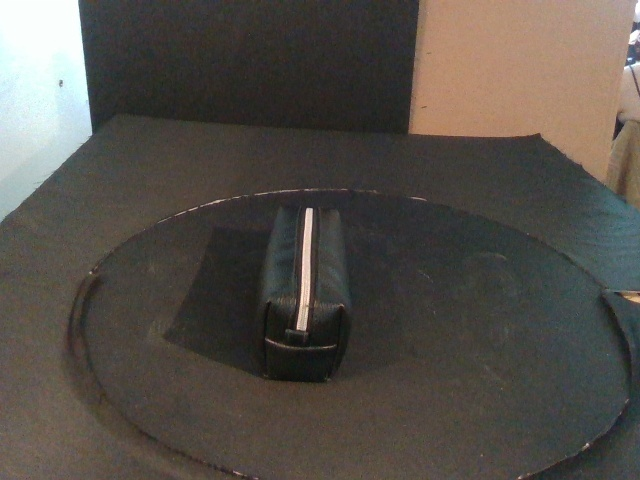pencil_case: (253, 204, 353, 383)
